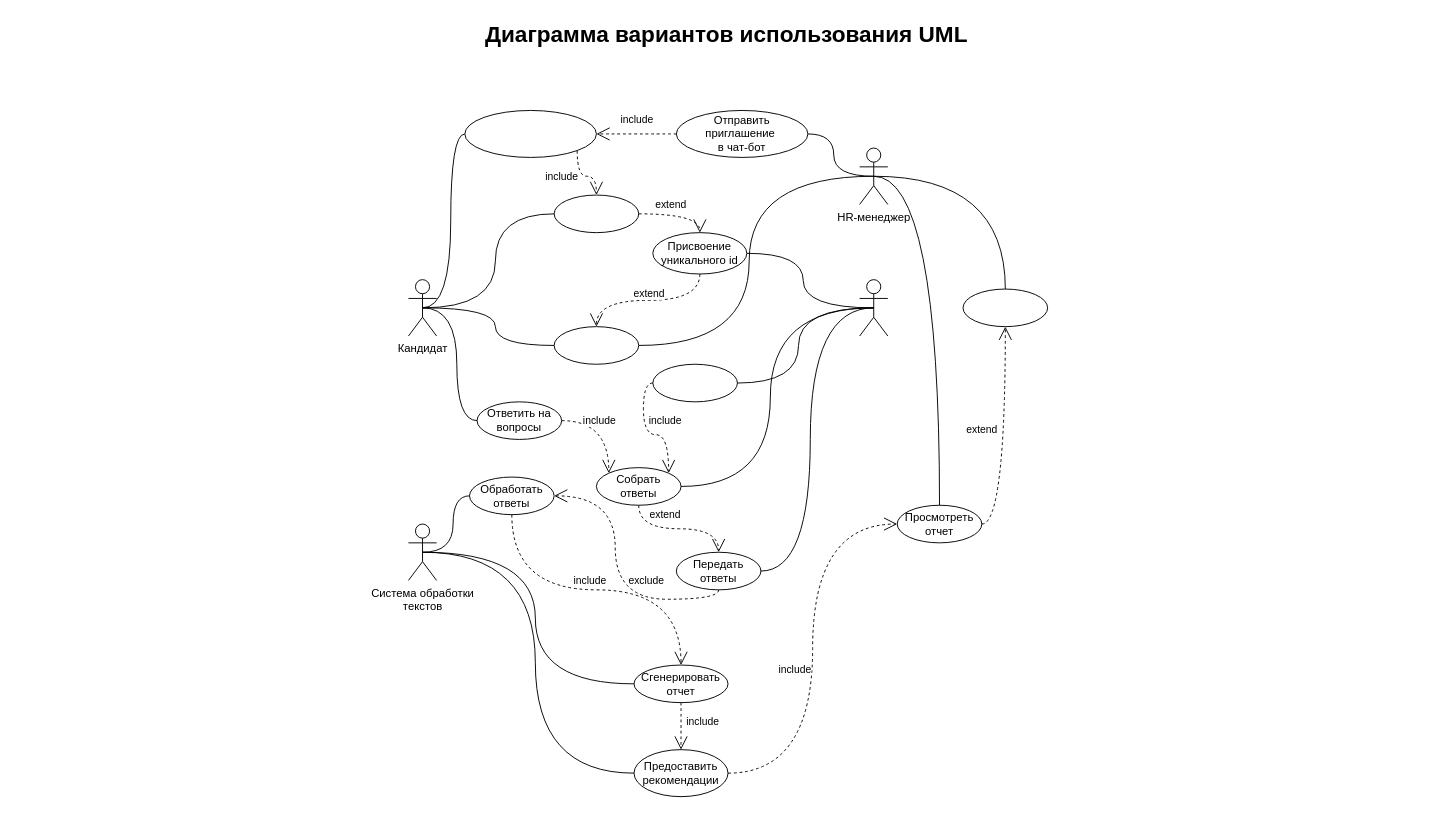
This 1451x813 diagram has some shape labels left out. Each missing label, with the centre of its shape:
Войти в систему: the point at 596,345
Задать вопросы: the point at 694,382
Запросить уточнения: the point at 1005,307
Принять приглашение в чат-бот: the point at 530,133
Регистрация: the point at 596,213
Чат-бот: the point at 873,307
